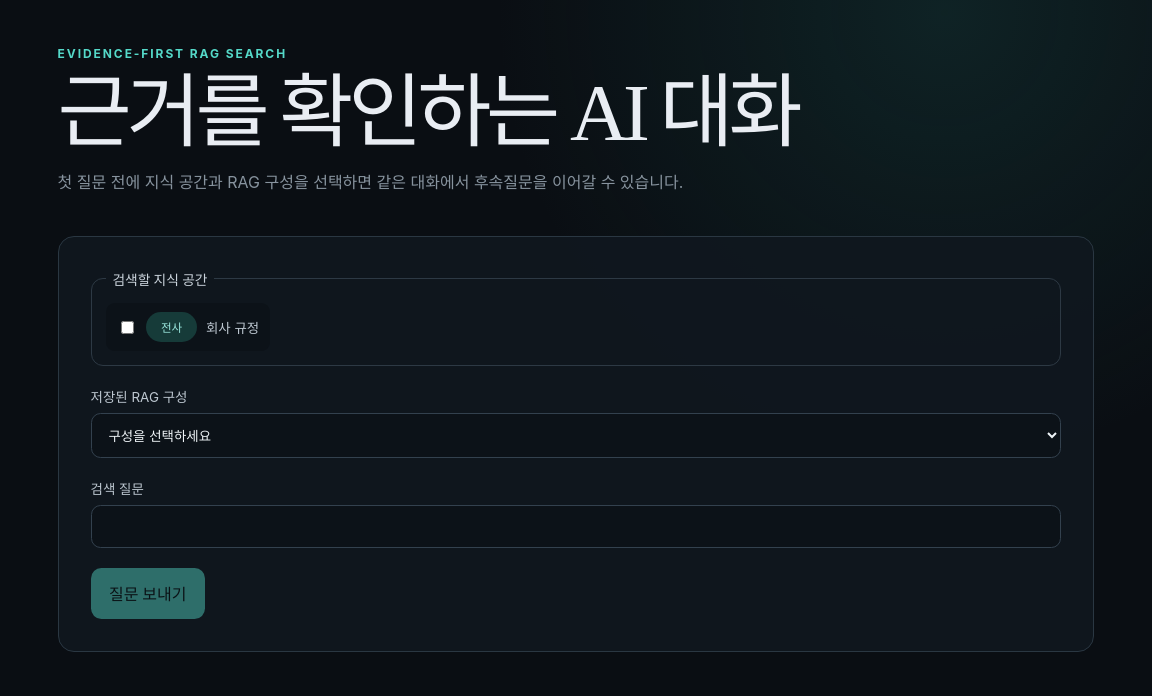
Scenario: SearchPage › enables a generative submit when server readiness and safe preview are current
Click the checkbox labelled "전사 회사 규정" at (128, 327), box [121,320,134,334]
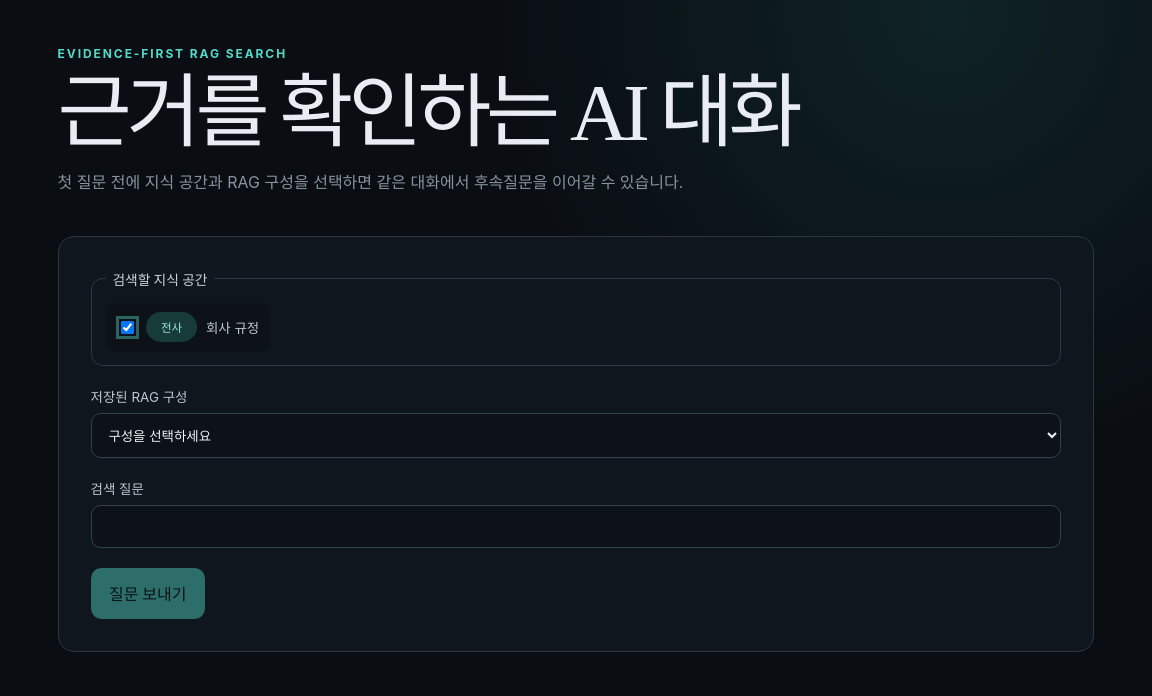
Select "승인된 하이브리드 v3" in the dropdown labelled "저장된 RAG 구성" at (576, 436), box [91,413,1061,458]
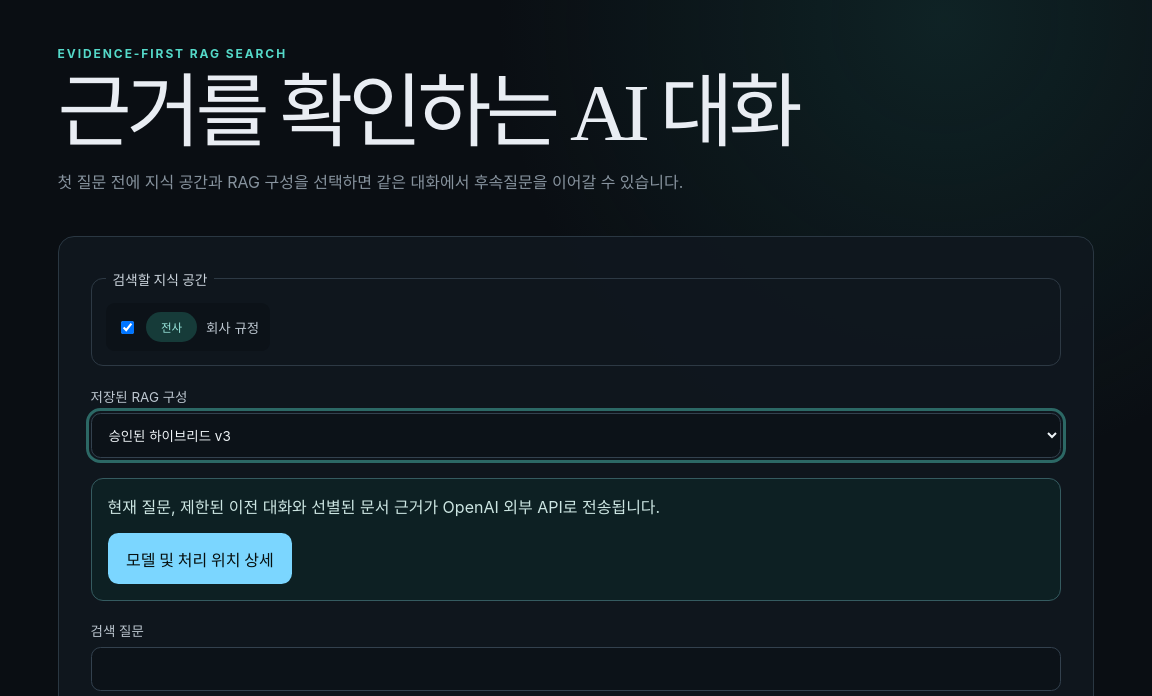
Type "생성형 질문" into the search field labelled "검색 질문" at (576, 669), box [91,648,1061,691]
(page scrolled)
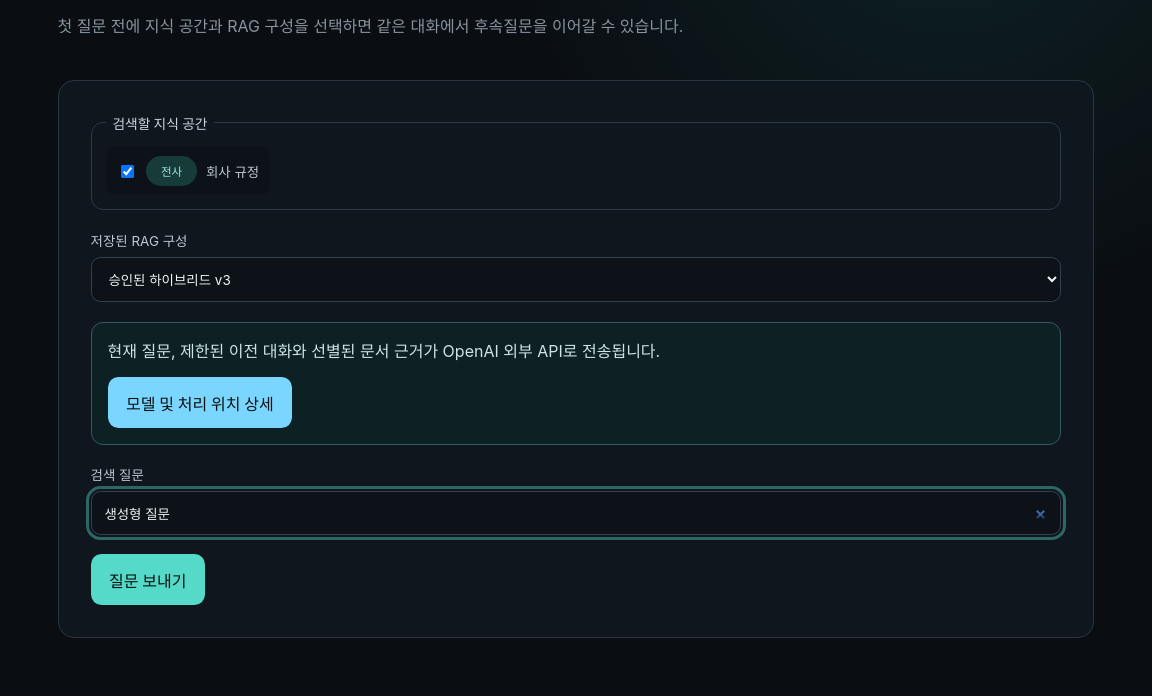
Check: the button "질문 보내기" is enabled, box [91,554,205,606]
